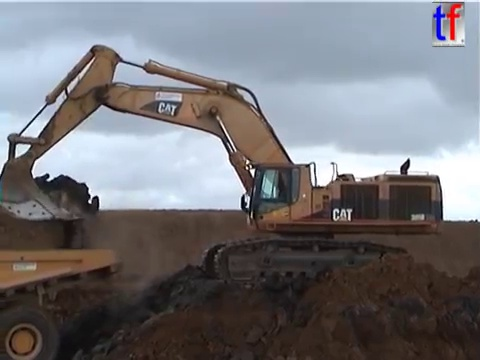excavator: (1, 41, 447, 294)
truck: (1, 245, 124, 360)
